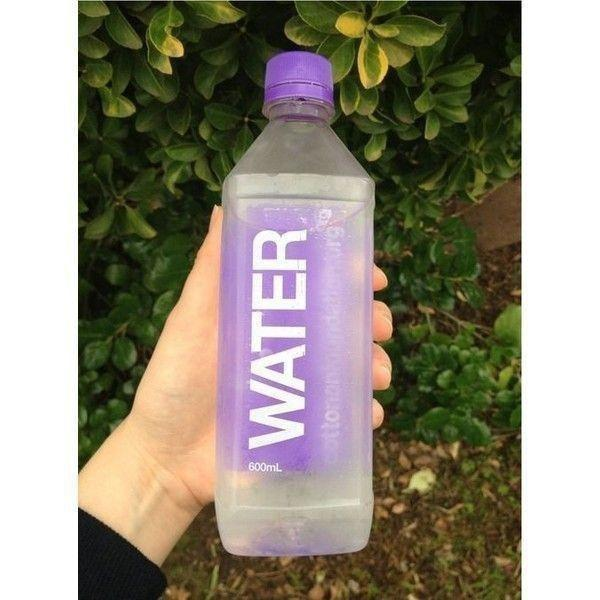bottle-plastic: (213, 48, 378, 558)
